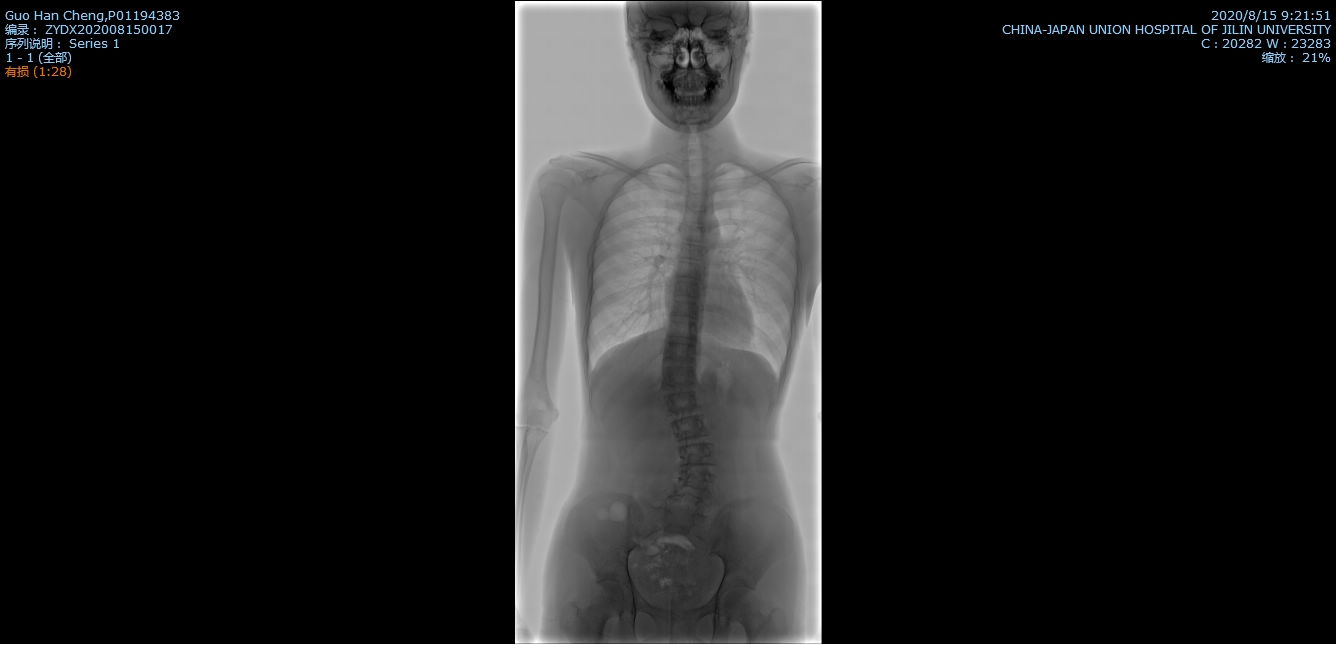Bone: (672, 415, 702, 439), (662, 366, 695, 387), (673, 488, 707, 506), (680, 445, 713, 463), (666, 393, 696, 412), (664, 342, 695, 360), (681, 469, 712, 486), (668, 320, 698, 337), (674, 259, 704, 275), (671, 302, 699, 318), (682, 243, 706, 261), (676, 280, 700, 296)
